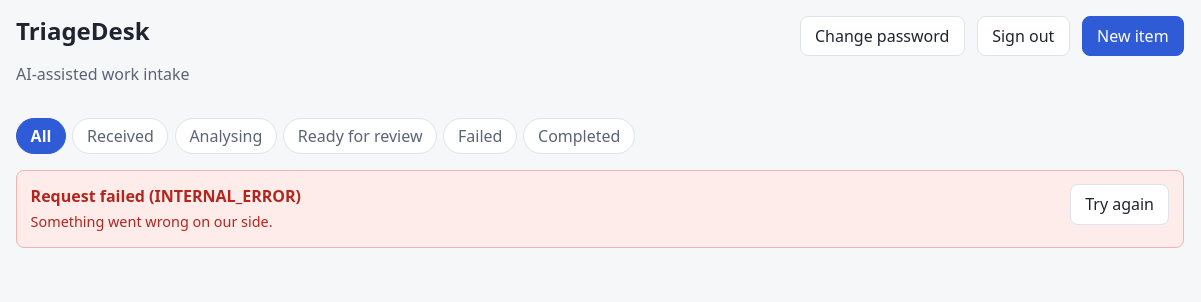
Test: error state › shows a banner and Try again refetches
Expected: the text "Request failed (INTERNAL_ERROR)" is shown, [31, 184, 301, 208]
Click the button "Try again". click: (1120, 204)
box: [1070, 184, 1169, 225]
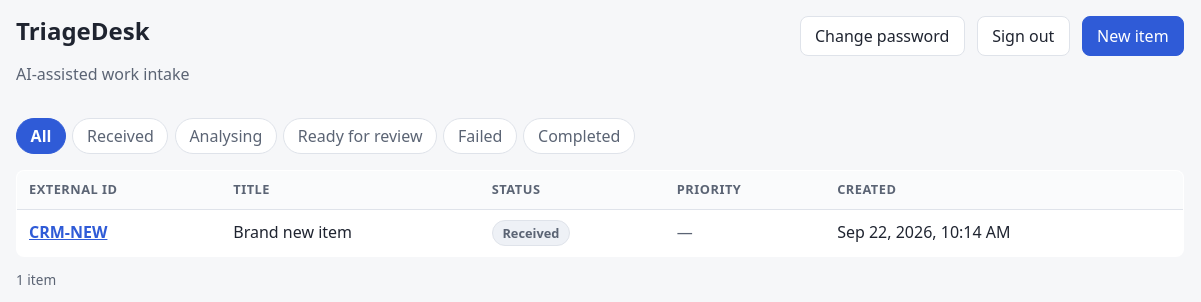
Expected: the text "Brand new item" is shown, [221, 210, 480, 256]
